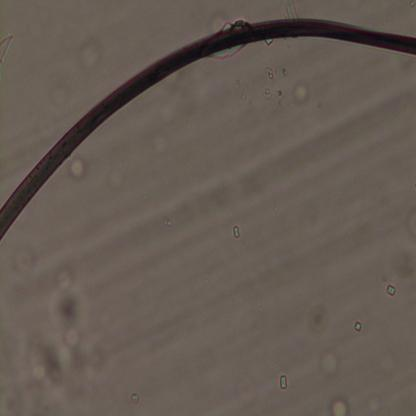Background material: (25, 267, 106, 403), (318, 349, 341, 382), (288, 76, 312, 106), (324, 392, 352, 415), (67, 157, 91, 182), (308, 305, 327, 336), (0, 32, 16, 65), (366, 392, 386, 415), (278, 1, 298, 20), (127, 388, 139, 404), (385, 282, 398, 296), (352, 319, 364, 334), (278, 374, 288, 390), (232, 225, 242, 239), (264, 67, 274, 79), (163, 217, 173, 229)
Microfibre: (0, 19, 416, 240)
